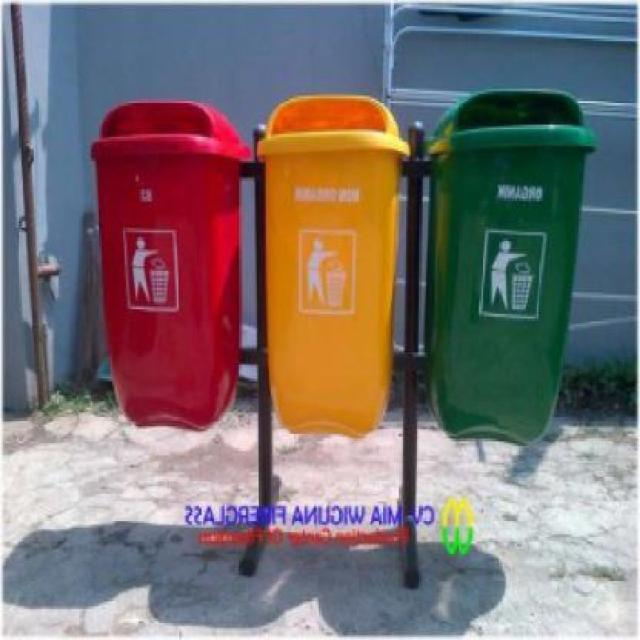garbage container: (418, 82, 604, 463), (80, 84, 254, 453), (248, 83, 417, 446)
